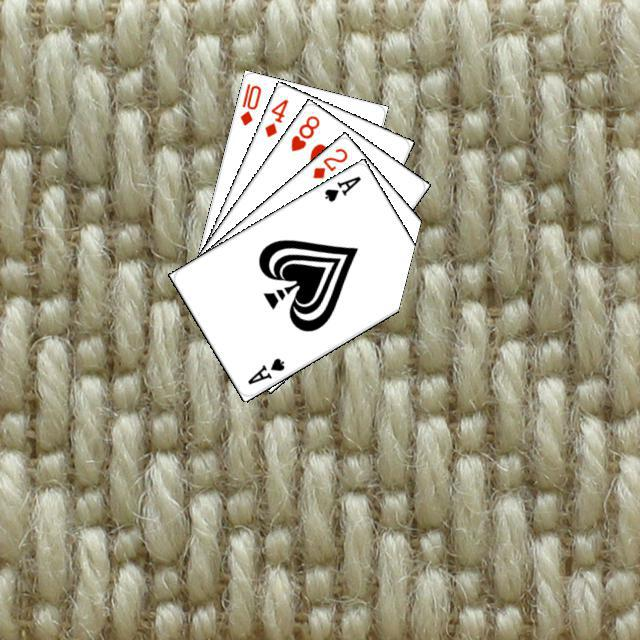10d: (235, 78, 263, 127)
2d: (307, 143, 349, 180)
4d: (260, 94, 290, 139)
8h: (286, 110, 321, 153)
As: (319, 171, 363, 204), (242, 353, 286, 386)
